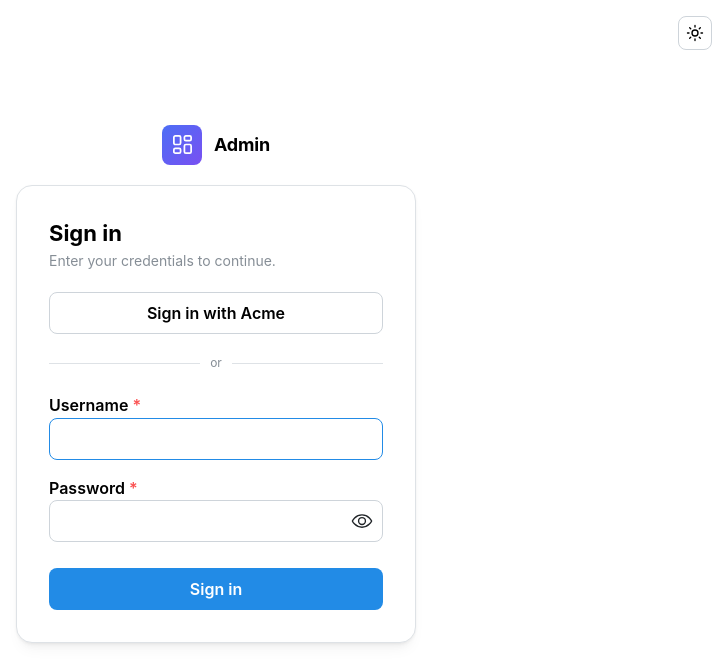
Scenario: Login with device identity › starts one federated sign-in at a time
Click the button "Sign in with Acme": point(216, 313) [49, 292, 383, 334]
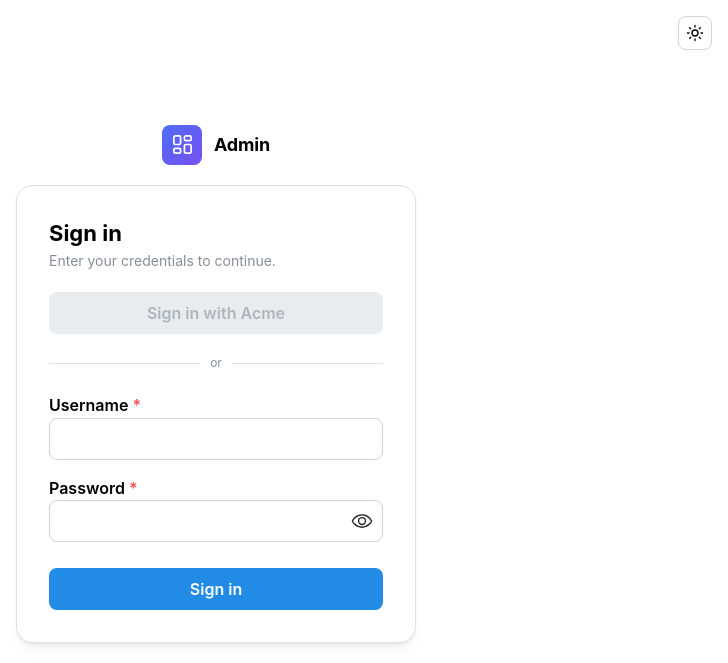
Check: the button "Sign in with Acme" is disabled, box [49, 292, 383, 334]
